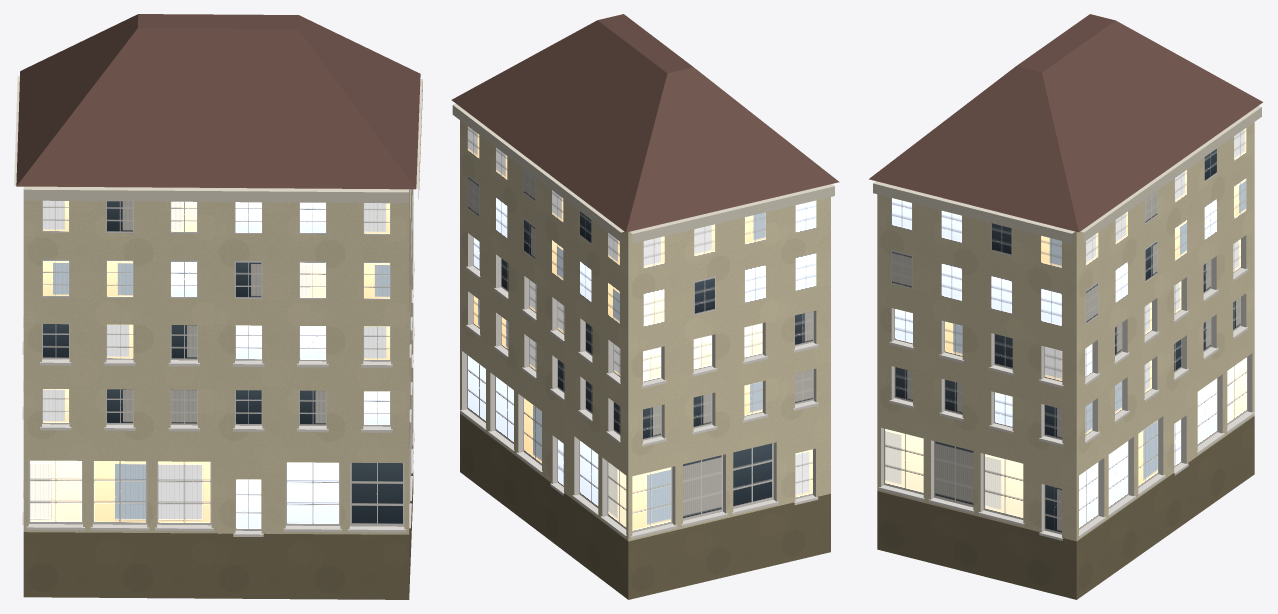
3 renders of one model, left to right at view 1: azimuth 30°, elevation 25°; view 2: azimuth 150°, elevation 25°; view 3: azimuth 270°, elevation 25°, orthographic. The views are drawn at different scales.
Parts seen in each view (by area): view 1: z3c_hb_sw2; view 2: z3c_hb_sw2; view 3: z3c_hb_sw2.
Boxes of the visible parts, left/top/right/bottom form: z3c_hb_sw2: left=14, top=14, right=422, bottom=599; z3c_hb_sw2: left=451, top=14, right=839, bottom=599; z3c_hb_sw2: left=869, top=14, right=1262, bottom=599.
Size of the model in its own units: 20.17 by 24.05 by 18.37.
Materials: 3 (3 with a texture image).
